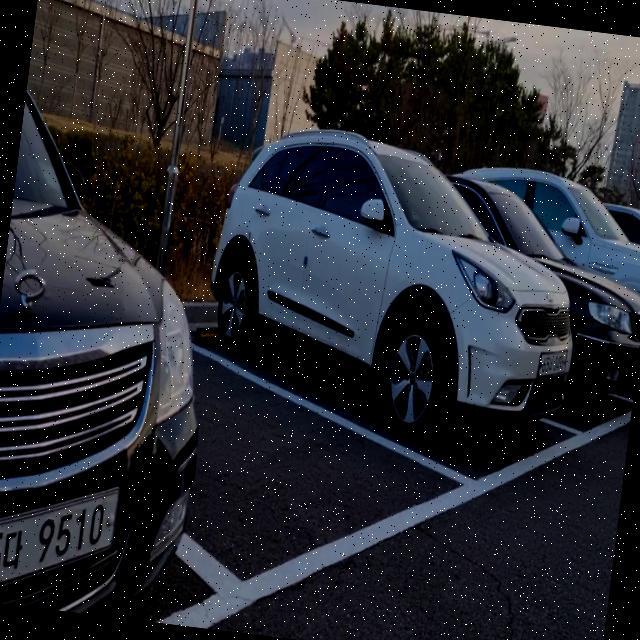empty: (178, 275, 493, 627)
occupied: (395, 238, 601, 498), (560, 269, 640, 448)
